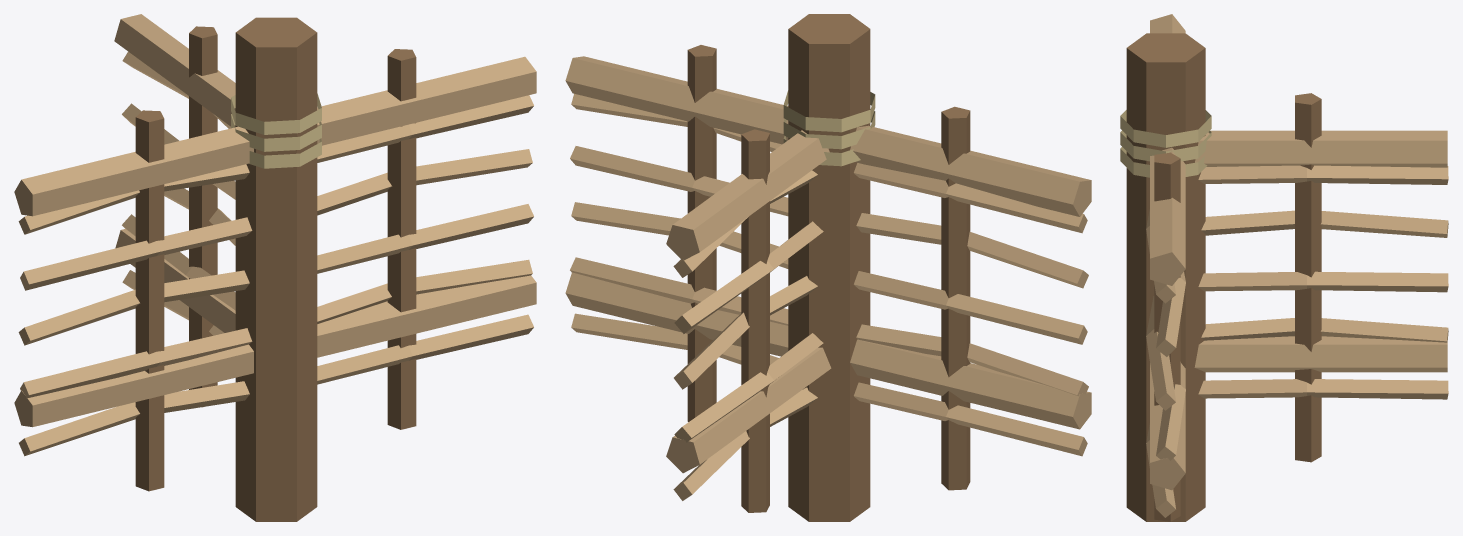
The model's file is pen_fence_0b.glb.
3 renders of one model, left to right at view 1: azimuth 30°, elevation 25°; view 2: azimuth 150°, elevation 25°; view 3: azimuth 270°, elevation 25°, orthographic. The views are drawn at different scales.
Parts seen in each view (by area): view 1: pen_fence_0b; view 2: pen_fence_0b; view 3: pen_fence_0b.
Boxes of the visible parts, box(x1,y1,x2,y2) form: pen_fence_0b: box(14, 14, 536, 521); pen_fence_0b: box(565, 14, 1091, 521); pen_fence_0b: box(1120, 14, 1448, 521).
Size of the model in its own units: 1 by 0.9 by 0.5823.
